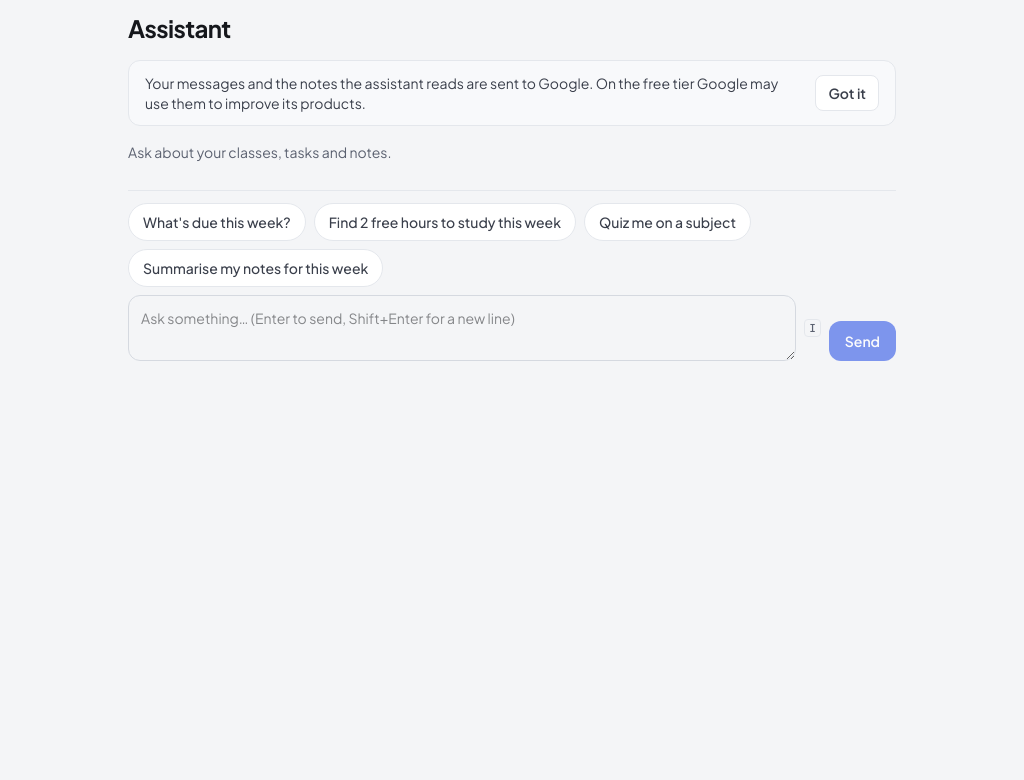
Scenario: AssistantPage › shows the translated unavailable text on a gateway timeout
In the text box named "Message the assistant": (462, 328) 128,295 -> 796,361, type "hello"
Then press Enter
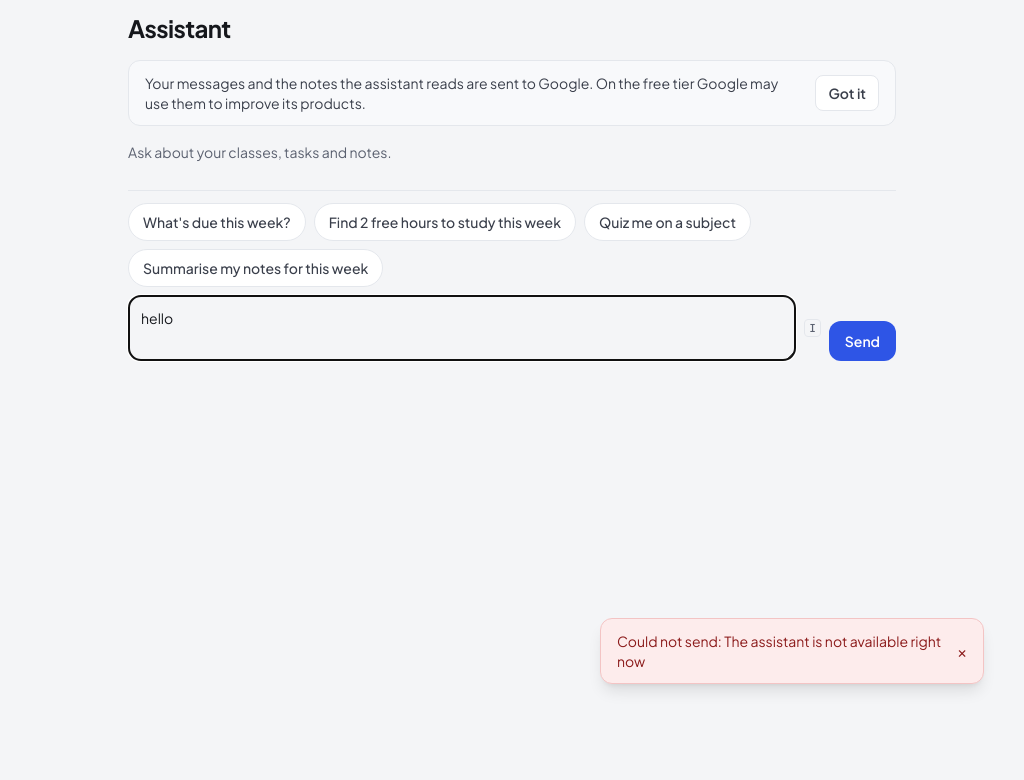
Expected: the text "Could not send: The assistant is not available right now" is shown, 617,631 -> 945,671
